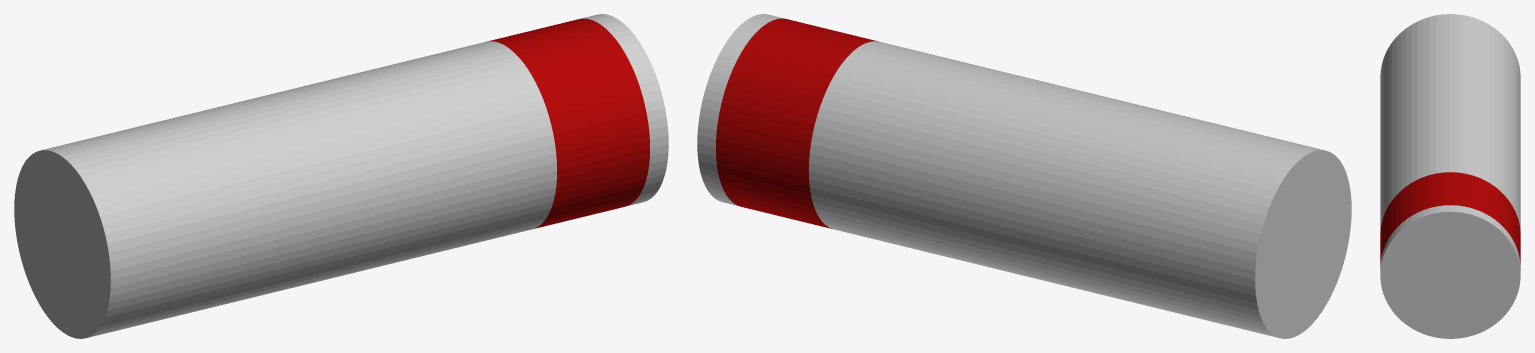
File: rotor_lock_pin.obj
3 views of the same model, side by side, from view 1: azimuth 30°, elevation 25°; view 2: azimuth 150°, elevation 25°; view 3: azimuth 270°, elevation 25° (orthographic). The views are drawn at different scales.
Parts seen in each view (by area): view 1: rotor_lock_pin; view 2: rotor_lock_pin; view 3: rotor_lock_pin.
Part boxes in pixels (<box>): rotor_lock_pin: <box>14,14,668,338</box>; rotor_lock_pin: <box>697,14,1351,338</box>; rotor_lock_pin: <box>1380,14,1520,338</box>.
Size of the model in its own units: 0.3 by 0.09 by 0.09.
